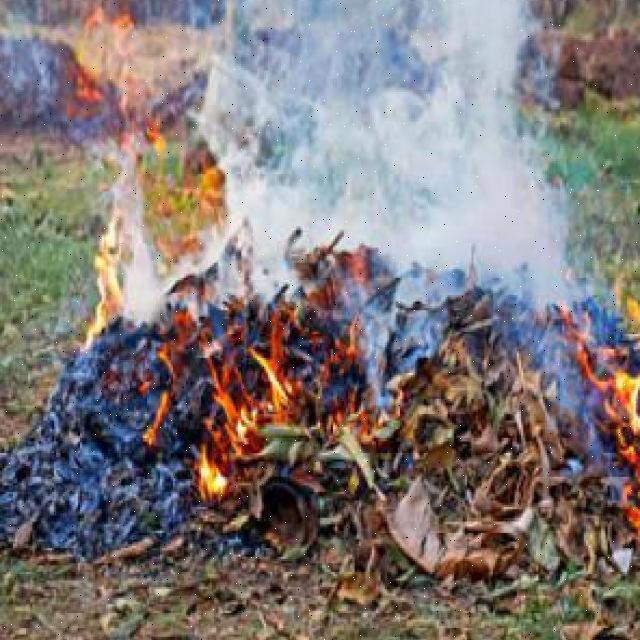fire: (180, 358, 294, 505), (573, 338, 640, 520), (82, 187, 141, 356)
smoke: (190, 0, 592, 322)
